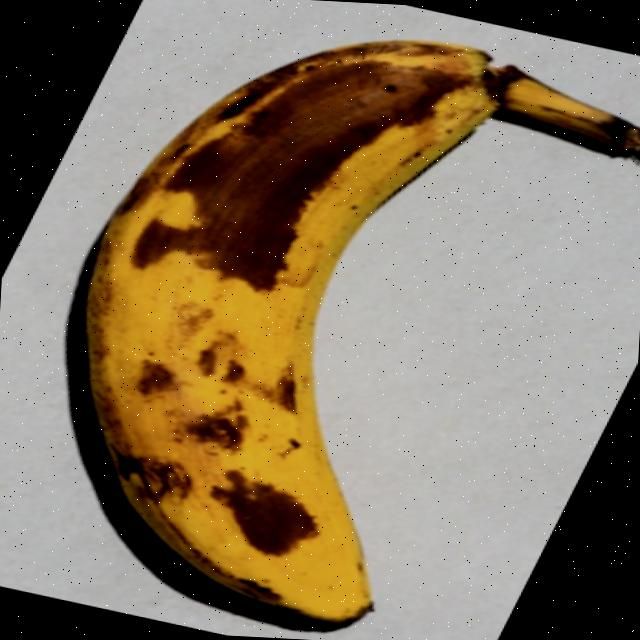overripe: (52, 14, 640, 640)
